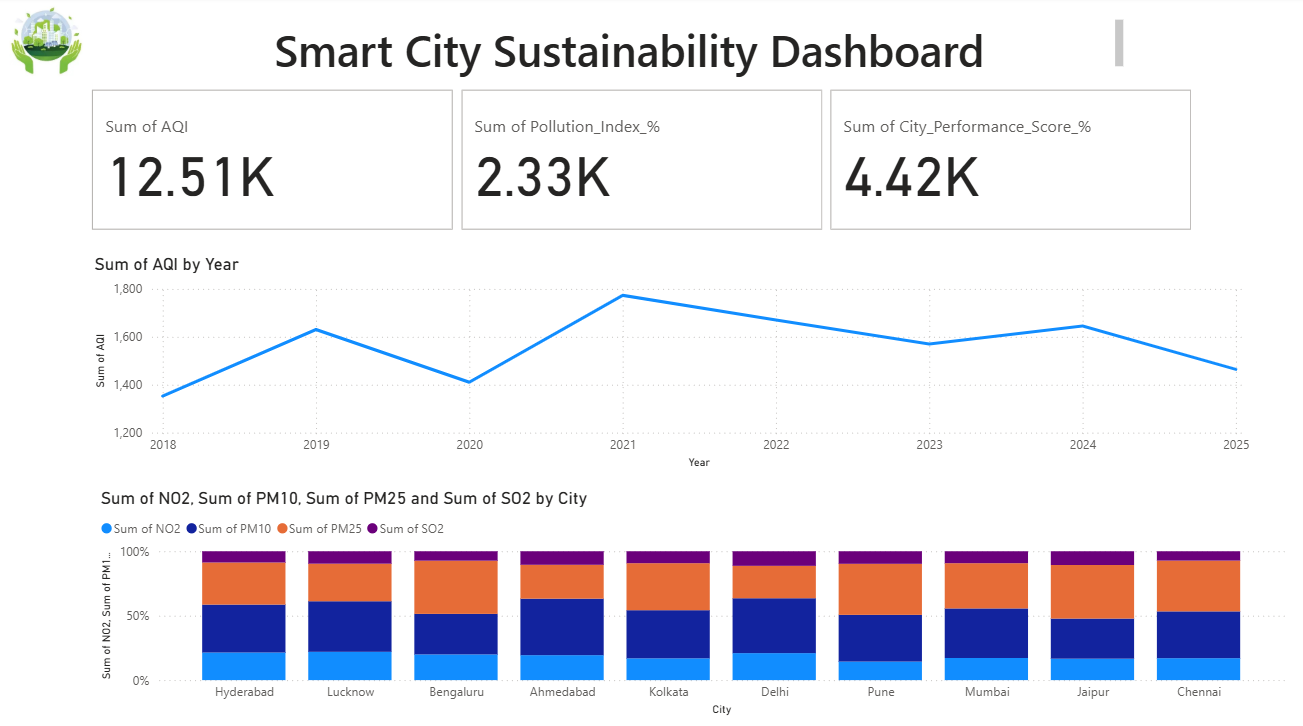

The page's visual inventory and layout, read from the dashboard file:
{"tool":"powerbi","page":{"name":"Page 1","canvas":[1280,720],"ordinal":0},"visuals":[{"type":"image","box":[0,0,96.6,86.8],"z":0},{"type":"textbox","box":[251,235,190,190],"z":3000},{"type":"textbox","box":[139.4,18.3,967.3,68.5],"z":4000},{"type":"cardVisual","fields":{"Data":["Sum(Smart_City_Sustainability_Hybrid_Dataset.AQI)","Sum(Smart_City_Sustainability_Hybrid_Dataset.Pollution_Index_%)","Sum(Smart_City_Sustainability_Hybrid_Dataset.City_Performance_Score_%)"]},"box":[88,86.8,1087.1,148],"z":6000},{"type":"lineChart","fields":{"Category":["Smart_City_Sustainability_Hybrid_Dataset.Year"],"Y":["Sum(Smart_City_Sustainability_Hybrid_Dataset.AQI)"]},"box":[90.5,251.9,1139.7,215.2],"z":7000},{"type":"hundredPercentStackedColumnChart","fields":{"Category":["Smart_City_Sustainability_Hybrid_Dataset.City"],"Y":["Sum(Smart_City_Sustainability_Hybrid_Dataset.NO2)","Sum(Smart_City_Sustainability_Hybrid_Dataset.PM10)","Sum(Smart_City_Sustainability_Hybrid_Dataset.PM25)","Sum(Smart_City_Sustainability_Hybrid_Dataset.SO2)"]},"box":[96.6,480.6,1167.8,228.7],"z":8000},{"type":"actionButton","box":[35.7,360,104.3,50],"z":11000},{"type":"actionButton","box":[64.3,594.3,64.3,40],"z":13000}]}

Visuals, with their boxes in screenshot pixels (x1, y1, x2, y2), scaled from the page's 1280x720 canvas onto the 1303x726 screenshot:
image: x1=0, y1=0, x2=98, y2=88
textbox: x1=256, y1=237, x2=449, y2=429
textbox: x1=142, y1=18, x2=1127, y2=88
cardVisual - Sum(Smart_City_Sustainability_Hybrid_Dataset.AQI) x Sum(Smart_City_Sustainability_Hybrid_Dataset.Pollution_Index_%): x1=90, y1=88, x2=1196, y2=237
lineChart - Smart_City_Sustainability_Hybrid_Dataset.Year x Sum(Smart_City_Sustainability_Hybrid_Dataset.AQI): x1=92, y1=254, x2=1252, y2=471
hundredPercentStackedColumnChart - Smart_City_Sustainability_Hybrid_Dataset.City x Sum(Smart_City_Sustainability_Hybrid_Dataset.NO2): x1=98, y1=485, x2=1287, y2=715
actionButton: x1=36, y1=363, x2=143, y2=413
actionButton: x1=65, y1=599, x2=131, y2=640
